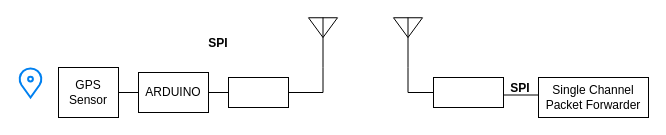
Some shapes in this 666 by 135 pixel diagram are drawn without their labels. The box of each missing label's shape, as (x1, y1, x2, y2) in pixels:
LoRa Rx: (432, 76, 504, 108)
LoRa Tx: (228, 76, 288, 108)
